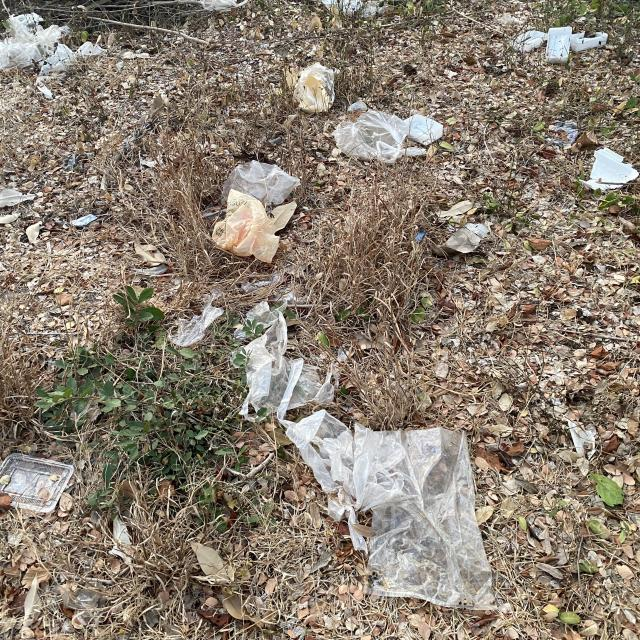Single-layer Plastic: (280, 410, 495, 610), (236, 314, 335, 420), (212, 190, 296, 262), (334, 110, 425, 164), (0, 12, 68, 69), (222, 160, 300, 206), (170, 305, 224, 348), (294, 64, 335, 112)
